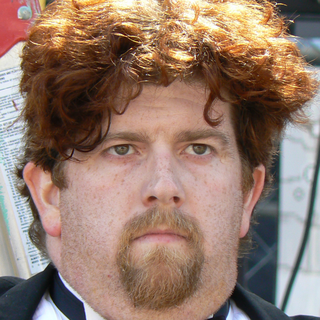eye: (176, 138, 222, 163), (97, 139, 145, 162)
